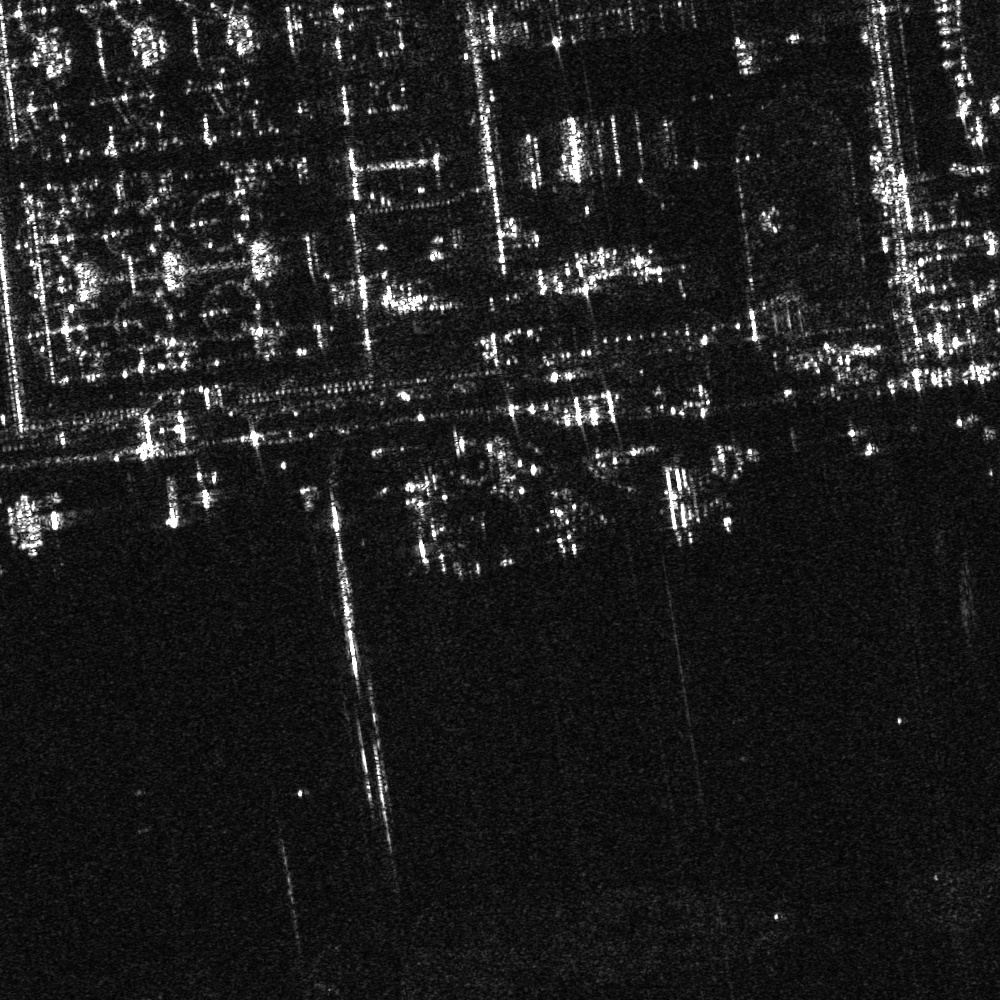Boeing787: (531, 482, 605, 558), (459, 433, 536, 504)
